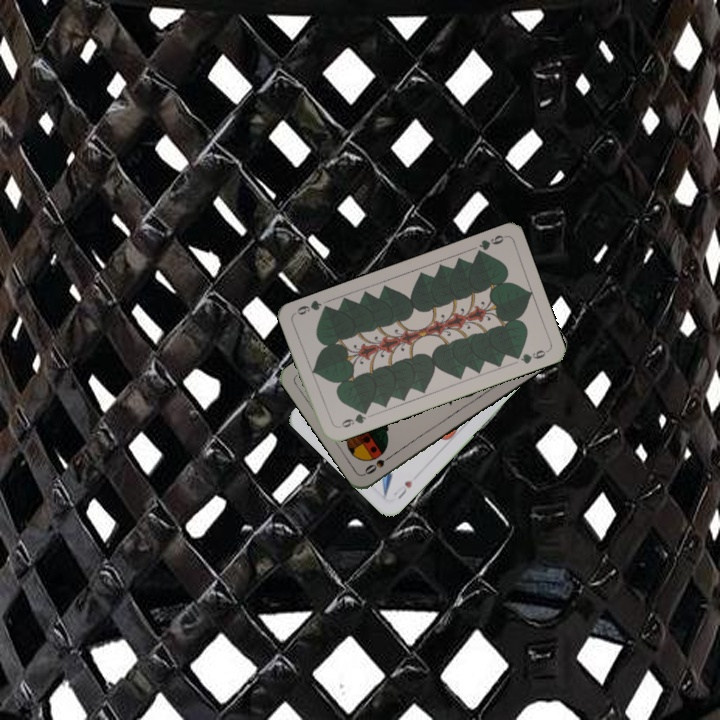G9: (471, 231, 508, 258), (333, 406, 370, 431)
HU: (390, 476, 415, 502)
SO: (360, 449, 397, 477)
